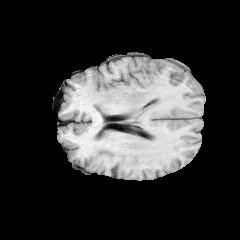glioma: (90, 78, 164, 110)
